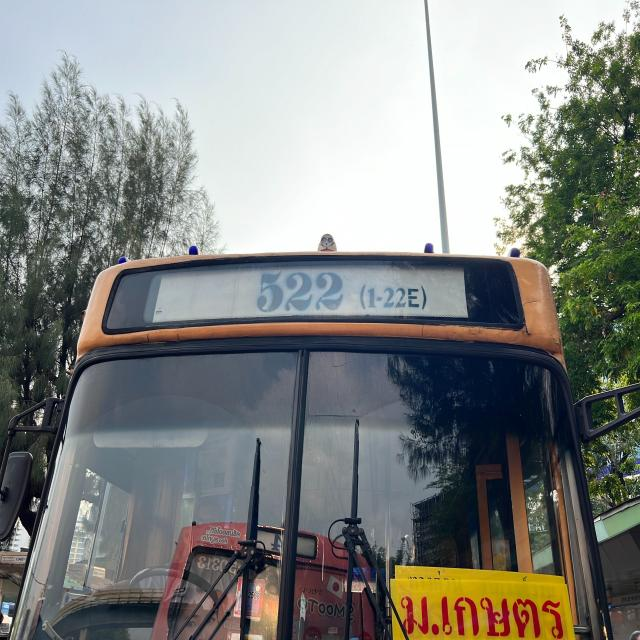BMTA-bus: (0, 226, 616, 639)
Bus-Line-Number: (236, 265, 437, 317)
Destination-Sign-Extra-Bus-Expressway: (390, 571, 576, 640)
